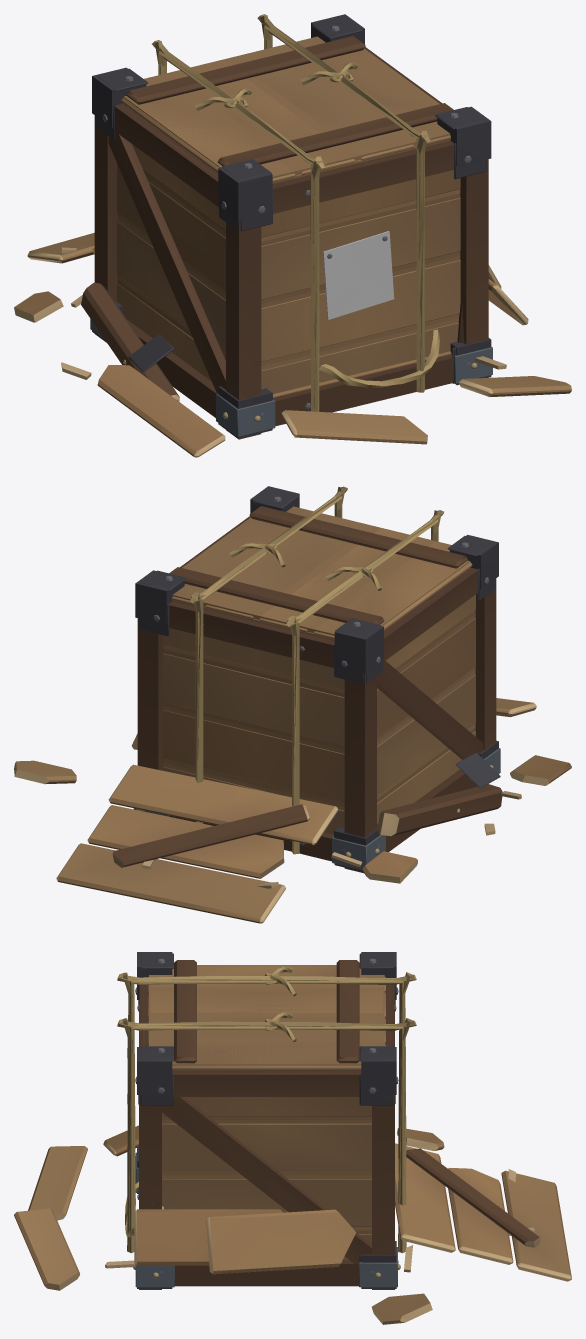
File: pr_lootcrate.glb
3 views of the same model, one above another, from view 1: azimuth 30°, elevation 25°; view 2: azimuth 150°, elevation 25°; view 3: azimuth 270°, elevation 25° (orthographic). The views are drawn at different scales.
Visible parts, largest first — view 1: PR_lootcrate__body, PR_lootcrate__far, PR_lootcrate__wreck; view 2: PR_lootcrate__body, PR_lootcrate__far, PR_lootcrate__wreck; view 3: PR_lootcrate__body, PR_lootcrate__far, PR_lootcrate__wreck.
Part boxes in pixels (x1,y1,x2,y2): PR_lootcrate__body: (90,14,492,436); PR_lootcrate__far: (92,14,491,439); PR_lootcrate__wreck: (14,232,571,457); PR_lootcrate__body: (133,486,500,870); PR_lootcrate__far: (135,486,498,873); PR_lootcrate__wreck: (14,698,571,923); PR_lootcrate__body: (117,953,416,1287); PR_lootcrate__far: (127,952,406,1289); PR_lootcrate__wreck: (14,1125,571,1324).
Size of the model in its own units: 1.82 by 0.9901 by 2.06.
